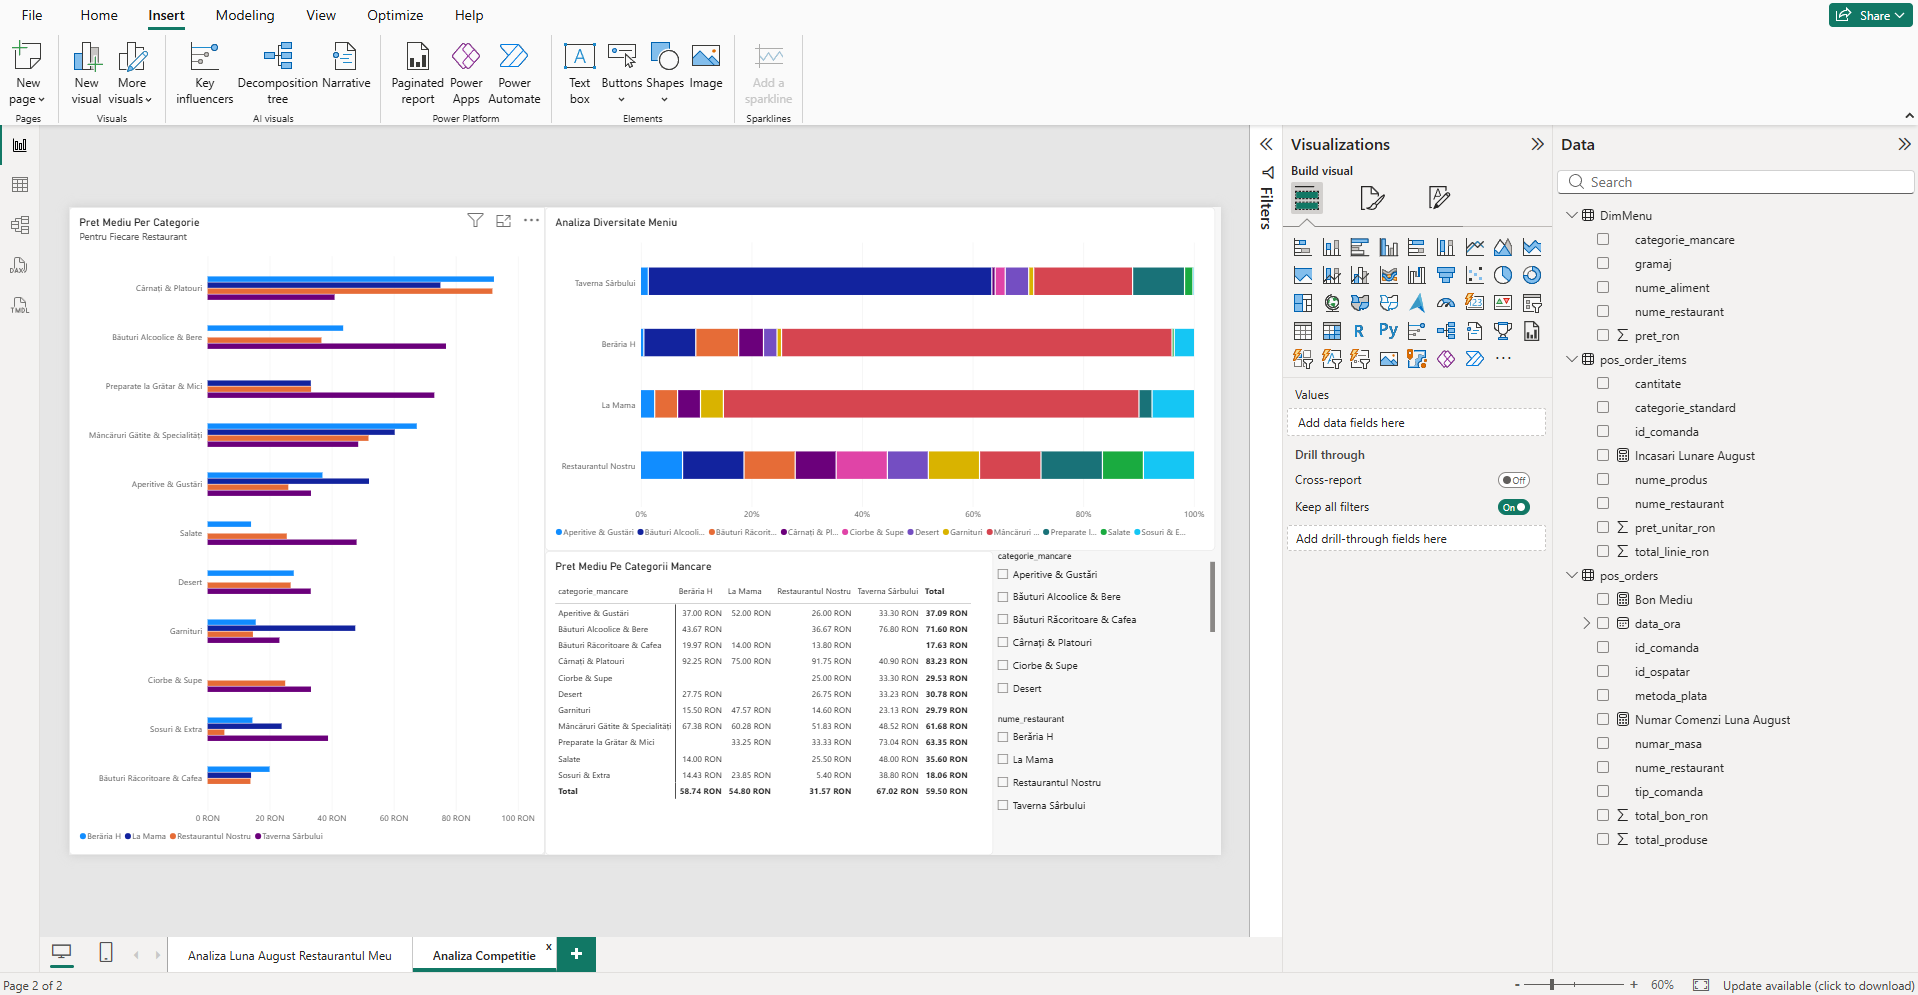

What the dashboard file says about the page in this screenshot:
{"tool":"powerbi","page":{"name":"Analiza Competitie","canvas":[1920,1080],"ordinal":1},"visuals":[{"type":"clusteredBarChart","title":"Pret Mediu Per Categorie","fields":{"Category":["DimMenu.categorie_mancare"],"Series":["DimMenu.nume_restaurant"],"Y":["Avg(DimMenu.pret_ron)"]},"box":[0,0,793.3,1080],"z":0},{"type":"hundredPercentStackedBarChart","title":"Analiza Diversitate Meniu","fields":{"Category":["DimMenu.nume_restaurant"],"Series":["DimMenu.categorie_mancare"],"Y":["Count(DimMenu.nume_aliment)"]},"box":[793.3,0,1116.7,573.3],"z":1000},{"type":"pivotTable","title":"Pret Mediu Pe Categorii Mancare","fields":{"Columns":["DimMenu.nume_restaurant"],"Rows":["DimMenu.categorie_mancare"],"Values":["Avg(DimMenu.pret_ron)"]},"box":[793.3,573.3,746.7,506.7],"z":2000},{"type":"slicer","fields":{"Values":["DimMenu.nume_restaurant"]},"box":[1540,845,370,235],"z":2001},{"type":"slicer","fields":{"Values":["DimMenu.categorie_mancare"]},"box":[1540,573.3,370,240],"z":2002}]}

Visuals, with their boxes on the page's 1920x1080 design canvas (x1, y1, x2, y2). These are canvas units, not pixel positions in the 1918x995 screenshot, which may show the page scaled, cropped or inside an application window:
"Pret Mediu Per Categorie" clusteredBarChart: (x1=0, y1=0, x2=793, y2=1080)
"Analiza Diversitate Meniu" hundredPercentStackedBarChart: (x1=793, y1=0, x2=1910, y2=573)
"Pret Mediu Pe Categorii Mancare" pivotTable: (x1=793, y1=573, x2=1540, y2=1080)
slicer - DimMenu.nume_restaurant: (x1=1540, y1=845, x2=1910, y2=1080)
slicer - DimMenu.categorie_mancare: (x1=1540, y1=573, x2=1910, y2=813)
